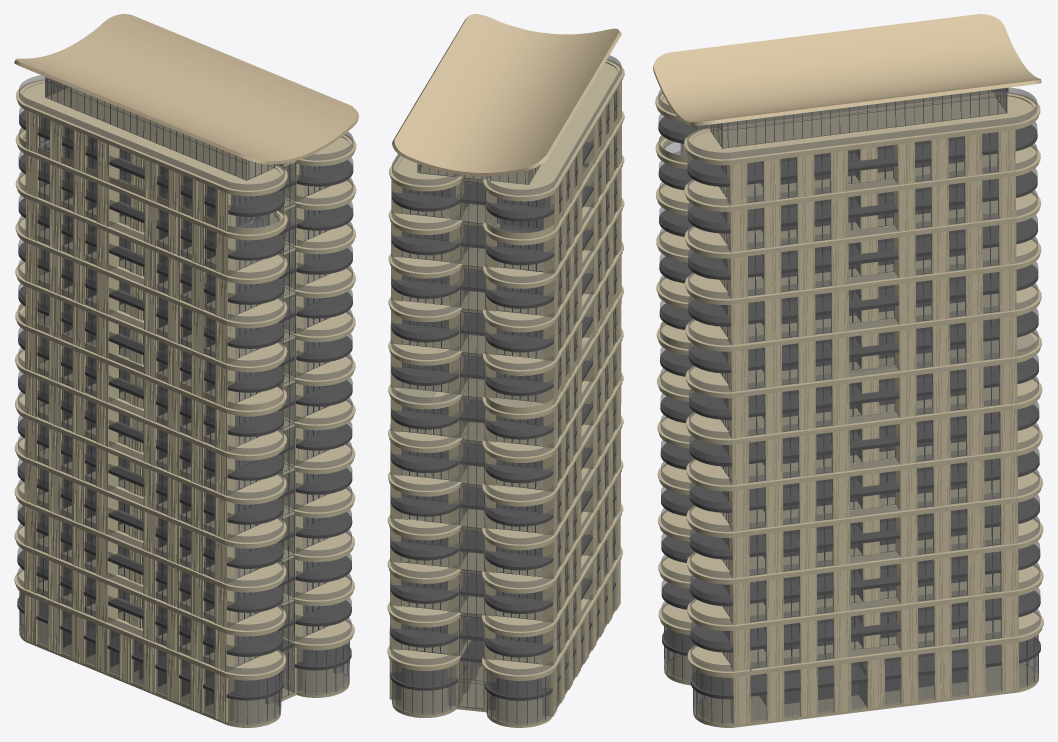
The model's file is Monaco_B4_Import3DFiles.glb.
3 renders of one model, left to right at view 1: azimuth 30°, elevation 25°; view 2: azimuth 150°, elevation 25°; view 3: azimuth 270°, elevation 25°, orthographic. The views are drawn at different scales.
Parts seen in each view (by area): view 1: mesh_material_from_multipatch_1, mesh_material_from_multipatch_4, mesh_material_from_multipatch_6, mesh_material_from_multipatch_2, mesh_material_from_multipatch_5, mesh_material_from_multipatch_3; view 2: mesh_material_from_multipatch_1, mesh_material_from_multipatch_4, mesh_material_from_multipatch_6, mesh_material_from_multipatch_5, mesh_material_from_multipatch_2, mesh_material_from_multipatch_3; view 3: mesh_material_from_multipatch_1, mesh_material_from_multipatch_4, mesh_material_from_multipatch_6, mesh_material_from_multipatch_2, mesh_material_from_multipatch_5, mesh_material_from_multipatch_3.
Part boxes in pixels (<box>): mesh_material_from_multipatch_1: <box>14,79,356,727</box>; mesh_material_from_multipatch_4: <box>17,75,353,716</box>; mesh_material_from_multipatch_6: <box>17,77,353,724</box>; mesh_material_from_multipatch_2: <box>25,111,295,722</box>; mesh_material_from_multipatch_5: <box>14,14,358,164</box>; mesh_material_from_multipatch_3: <box>19,77,349,724</box>; mesh_material_from_multipatch_1: <box>387,59,624,727</box>; mesh_material_from_multipatch_4: <box>390,55,621,708</box>; mesh_material_from_multipatch_6: <box>390,90,617,724</box>; mesh_material_from_multipatch_5: <box>392,14,621,175</box>; mesh_material_from_multipatch_2: <box>459,82,621,715</box>; mesh_material_from_multipatch_3: <box>392,164,550,724</box>; mesh_material_from_multipatch_1: <box>655,90,1043,727</box>; mesh_material_from_multipatch_4: <box>658,87,1040,722</box>; mesh_material_from_multipatch_6: <box>658,88,1040,724</box>; mesh_material_from_multipatch_2: <box>703,125,1017,725</box>; mesh_material_from_multipatch_5: <box>653,14,1041,126</box>; mesh_material_from_multipatch_3: <box>664,88,1038,724</box>.
Bounding box in the file's own units: 33.48 × 86.33 × 50.2.
